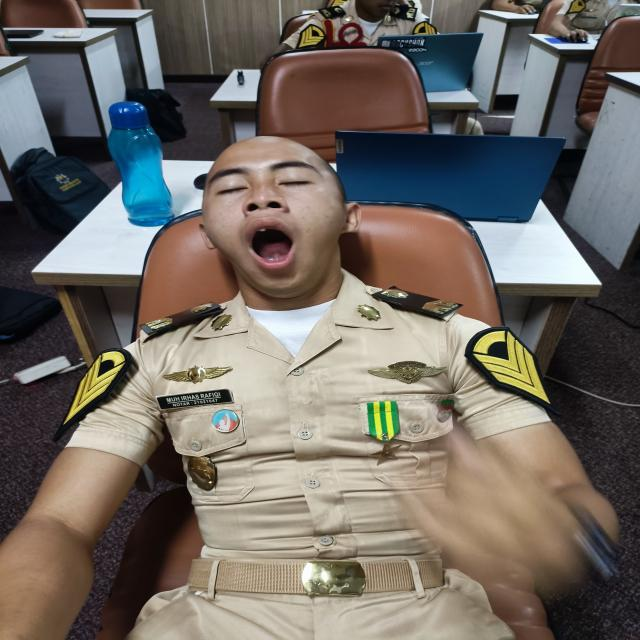no-seatbelt: (234, 218, 304, 270), (198, 174, 328, 199)
